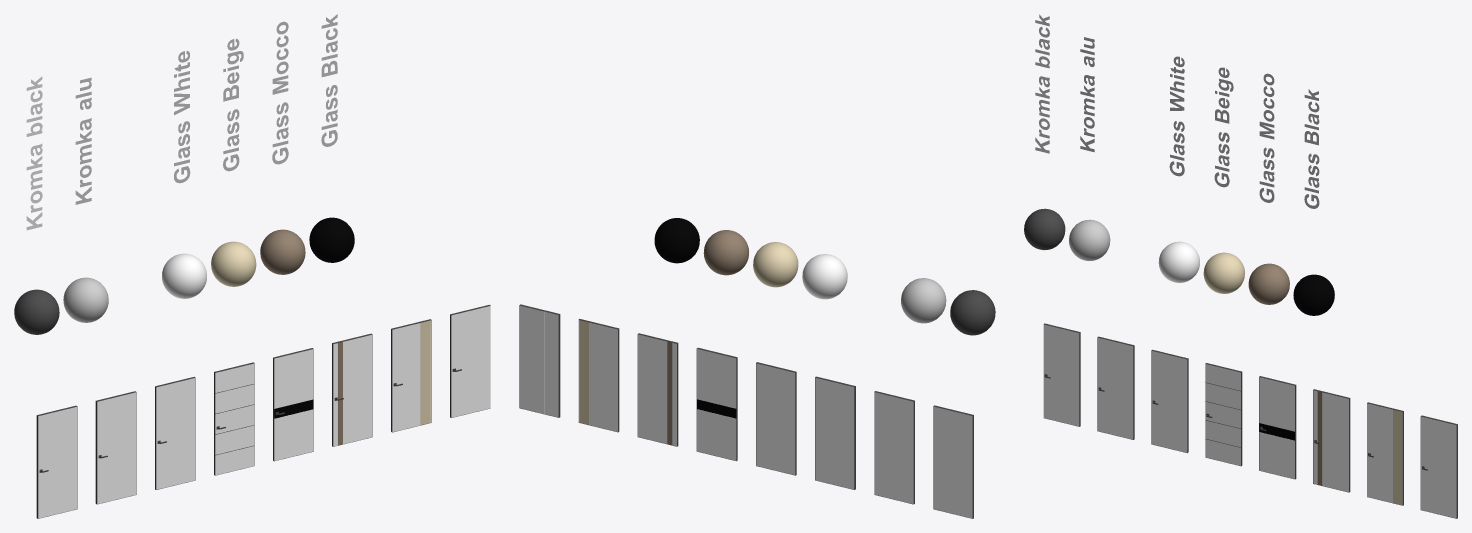
Rendered from idoors.glb.
3 renders of one model, left to right at view 1: azimuth 30°, elevation 25°; view 2: azimuth 150°, elevation 25°; view 3: azimuth 330°, elevation 25°, orthographic. The views are drawn at different scales.
Parts seen in each view (by area): view 1: Box2131637314, Box2131637311, Box2131637312, Box2131637310, Box2131637313, Box017, Box025, Box023, Glass Mocco, Kromka black_node, Glass Black, Kromka alu (+10 smaller); view 2: Box2131637312, Box2131637310, Box2131637311, Box2131637314, Box2131637313, Box017, Box023, Box025, Kromka black_node, Glass White, Glass Mocco, Glass Beige (+5 smaller); view 3: Box2131637310, Box2131637311, Box2131637312, Box2131637314, Box2131637313, Box017, Box023, Box025, Kromka black_node, Glass Beige, Glass Mocco, Glass Black (+11 smaller).
Boxes of the visible parts, x1,y1,x2,y2 form: Box2131637314: [215, 363, 254, 475]; Box2131637311: [97, 392, 136, 503]; Box2131637312: [156, 378, 195, 489]; Box2131637310: [38, 407, 77, 518]; Box2131637313: [274, 349, 313, 460]; Box017: [333, 335, 372, 446]; Box025: [392, 320, 431, 431]; Box023: [451, 306, 490, 417]; Glass Mocco: [260, 229, 305, 274]; Kromka black_node: [14, 289, 59, 334]; Glass Black: [309, 217, 354, 262]; Kromka alu: [63, 277, 108, 322]; Box2131637312: [815, 377, 854, 489]; Box2131637310: [933, 406, 972, 518]; Box2131637311: [874, 392, 913, 503]; Box2131637314: [756, 363, 795, 475]; Box2131637313: [697, 349, 736, 460]; Box017: [638, 334, 676, 446]; Box023: [519, 305, 558, 417]; Box025: [578, 320, 617, 431]; Kromka black_node: [950, 290, 995, 335]; Glass White: [802, 254, 847, 299]; Glass Mocco: [703, 230, 748, 275]; Glass Beige: [753, 242, 798, 287]; Box2131637310: [1043, 324, 1079, 426]; Box2131637311: [1097, 337, 1133, 439]; Box2131637312: [1151, 351, 1187, 452]; Box2131637314: [1205, 364, 1240, 465]; Box2131637313: [1259, 377, 1294, 478]; Box017: [1313, 390, 1348, 492]; Box023: [1421, 416, 1456, 518]; Box025: [1367, 403, 1402, 505]; Kromka black_node: [1024, 208, 1065, 250]; Glass Beige: [1203, 252, 1244, 293]; Glass Mocco: [1248, 263, 1289, 304]; Glass Black: [1293, 274, 1334, 315].
Bounding box in the file's own units: 9602 × 8560 × 800.
